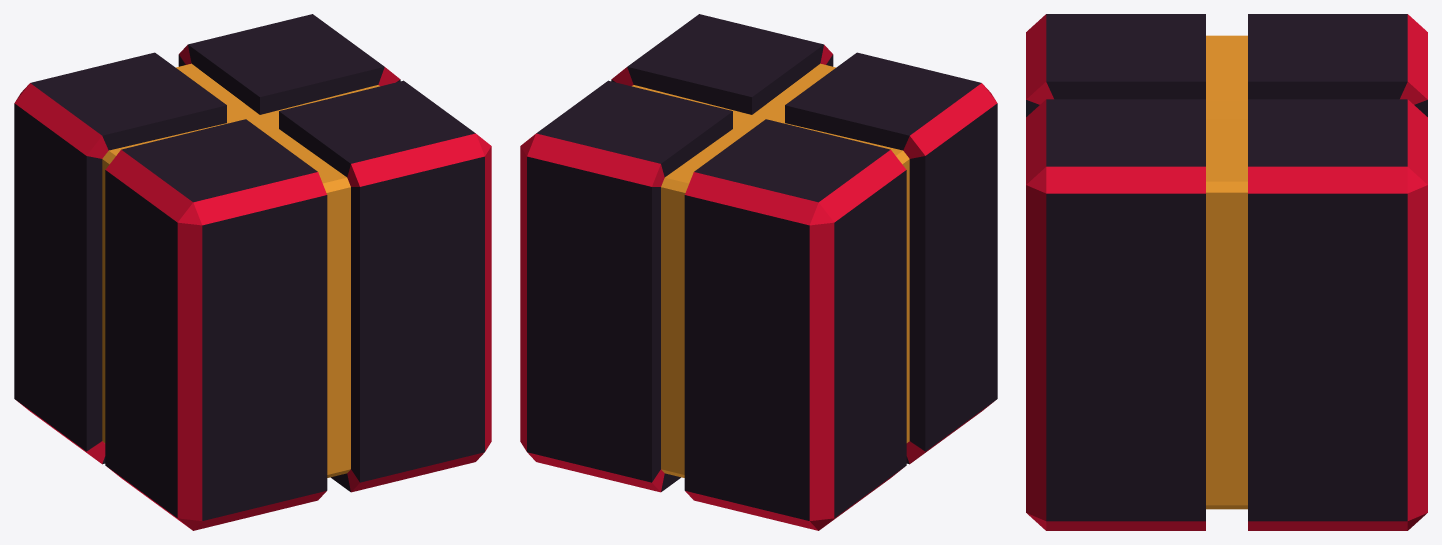
Rendered from LP-sci-fi-box-crate.fbx.
The picture shows the model from 3 angles, left to right: view 1: azimuth 30°, elevation 25°; view 2: azimuth 150°, elevation 25°; view 3: azimuth 270°, elevation 25°; orthographic projection. The views are drawn at different scales.
Parts seen in each view (by area): view 1: Cube; view 2: Cube; view 3: Cube.
Part boxes in pixels (x1=…): Cube: x1=14, y1=14, x2=491, y2=530; Cube: x1=520, y1=14, x2=997, y2=530; Cube: x1=1026, y1=14, x2=1427, y2=530.
Bounding box in the file's own units: 100 × 100 × 100.
1 material, 1 textured.
